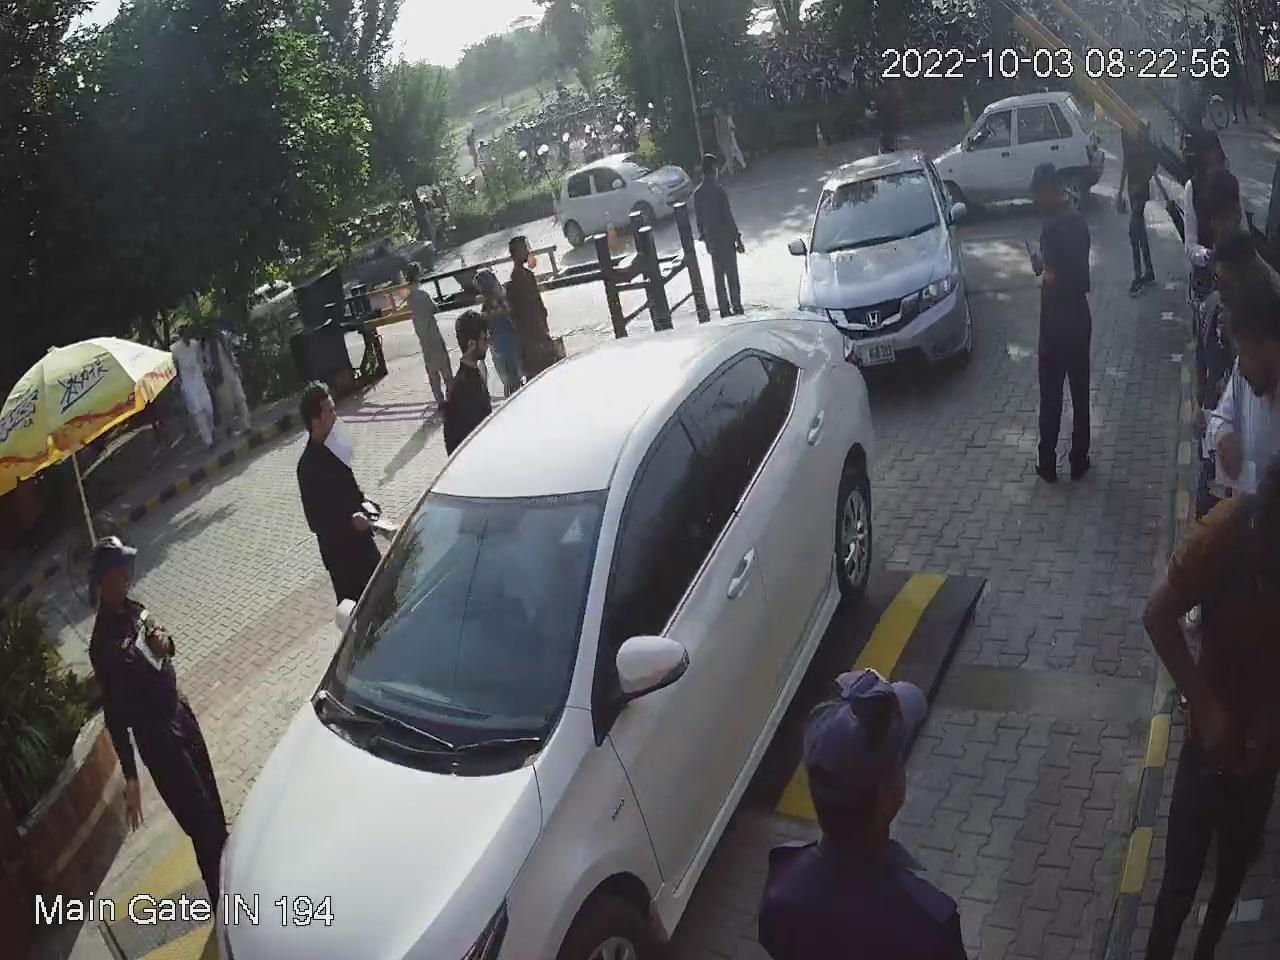windshield: (315, 478, 614, 760), (813, 162, 945, 255)
